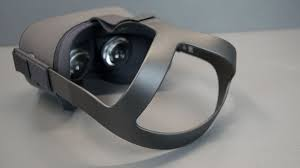oculus: (15, 4, 166, 112)
